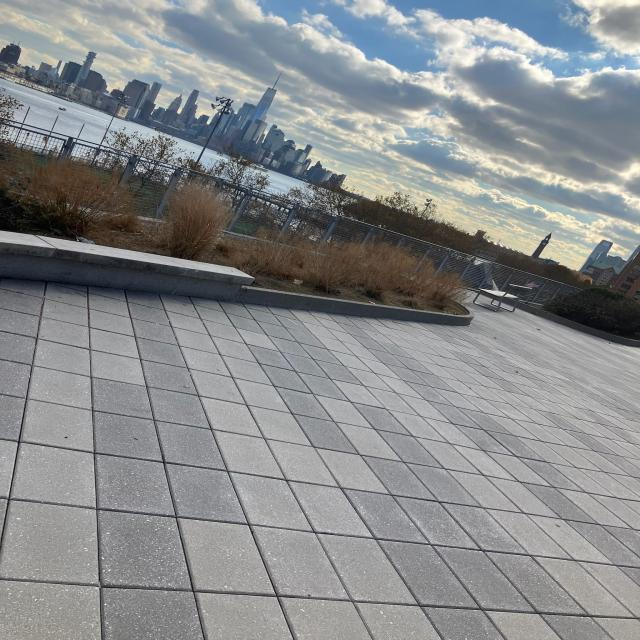WTC: (249, 68, 286, 122)
